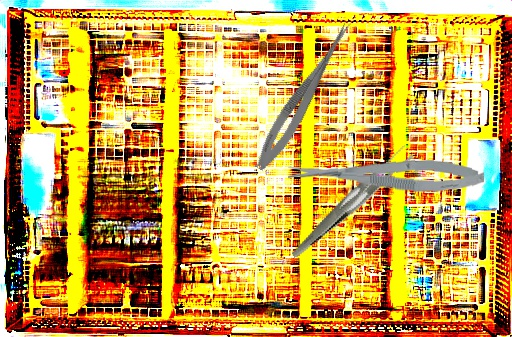Dressing Forceps: (270, 144, 432, 258)
Micro Scissor: (249, 14, 357, 176), (287, 151, 485, 196)
